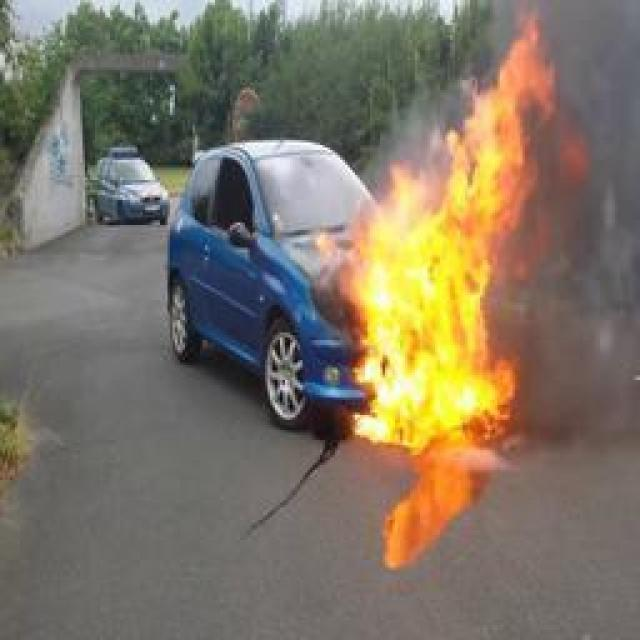Fire: (348, 4, 592, 448)
